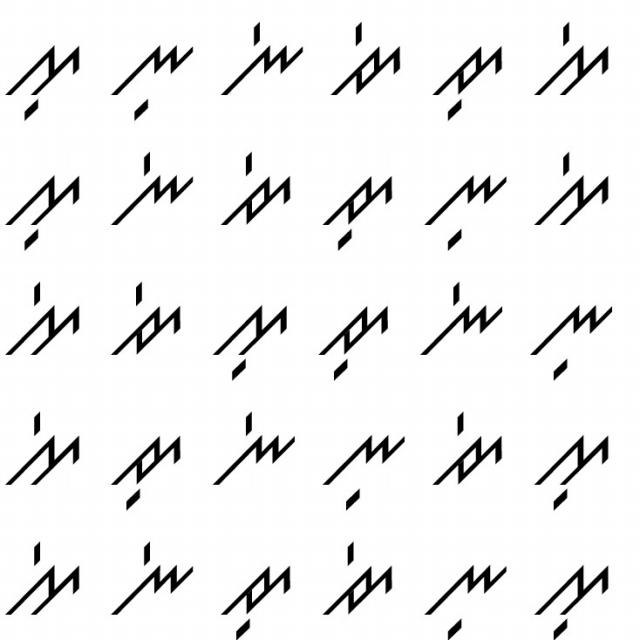je: (315, 528, 399, 624), (432, 404, 512, 499), (212, 146, 298, 232), (104, 281, 189, 361), (328, 17, 405, 98)
ju: (424, 31, 509, 122), (107, 423, 191, 514), (310, 296, 396, 383), (319, 163, 397, 251), (219, 555, 294, 639)
nye: (219, 15, 312, 102), (208, 406, 302, 492), (415, 276, 508, 362), (106, 534, 197, 621), (108, 148, 202, 230)
nyu: (420, 166, 516, 253), (522, 298, 620, 383), (319, 425, 412, 511), (420, 555, 511, 638), (106, 38, 197, 121)
se: (6, 268, 86, 364), (528, 18, 616, 104), (5, 406, 88, 492), (2, 540, 90, 620), (533, 148, 614, 230)
su: (208, 290, 295, 381), (3, 162, 89, 252), (530, 429, 613, 514), (4, 38, 90, 120), (531, 560, 612, 639)
